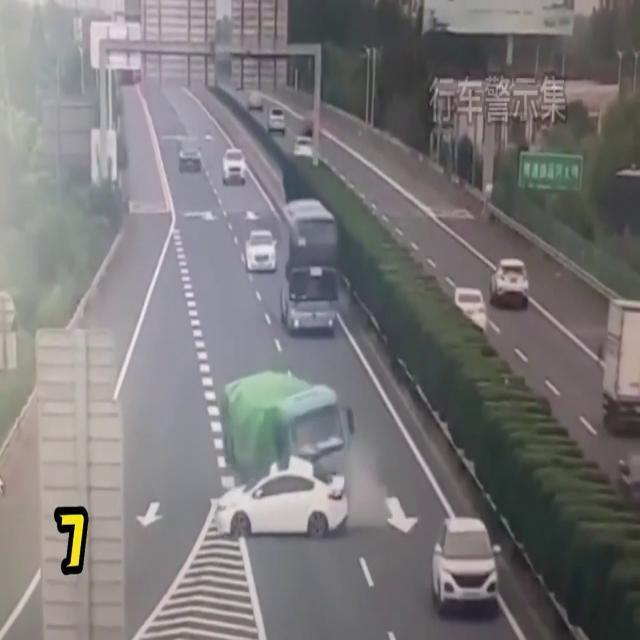accident: (212, 370, 351, 540)
